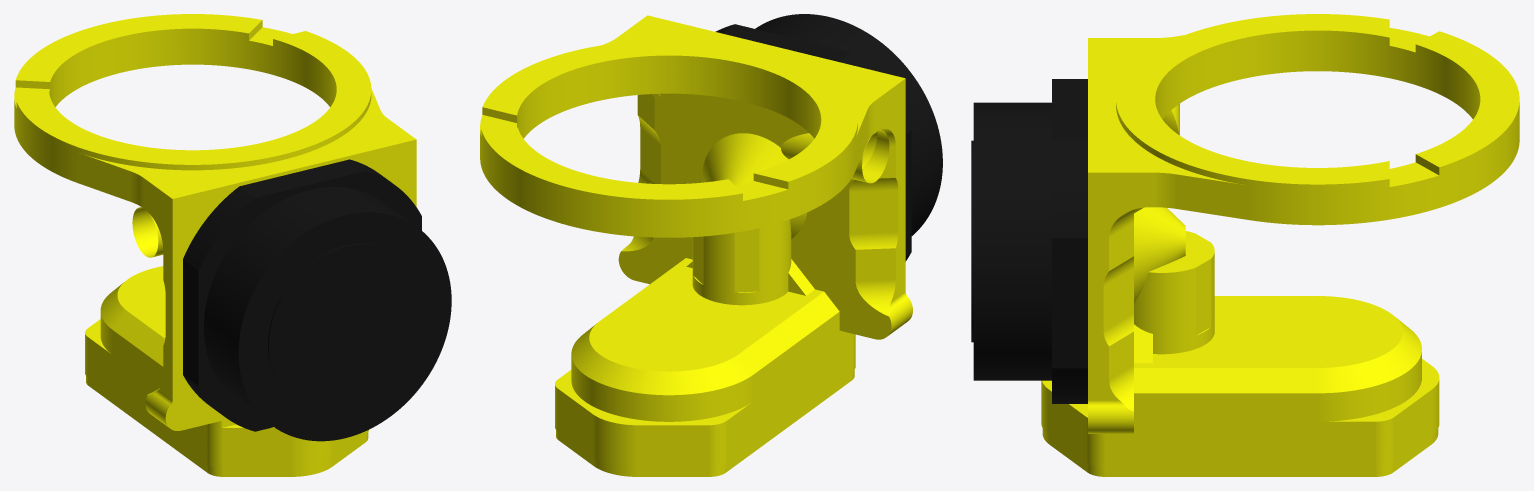
The picture shows the model from 3 angles, left to right: view 1: azimuth 30°, elevation 25°; view 2: azimuth 150°, elevation 25°; view 3: azimuth 270°, elevation 25°; orthographic projection. The views are drawn at different scales.
Visible parts, largest first — view 1: 45M_S501; view 2: 45M_S501; view 3: 45M_S501.
Part boxes in pixels (x1,y1,x2,y2): 45M_S501: (14,14,451,476); 45M_S501: (480,14,942,476); 45M_S501: (971,14,1519,476).
Bounding box in the file's own units: 0.18 × 0.2445 × 0.1644.
